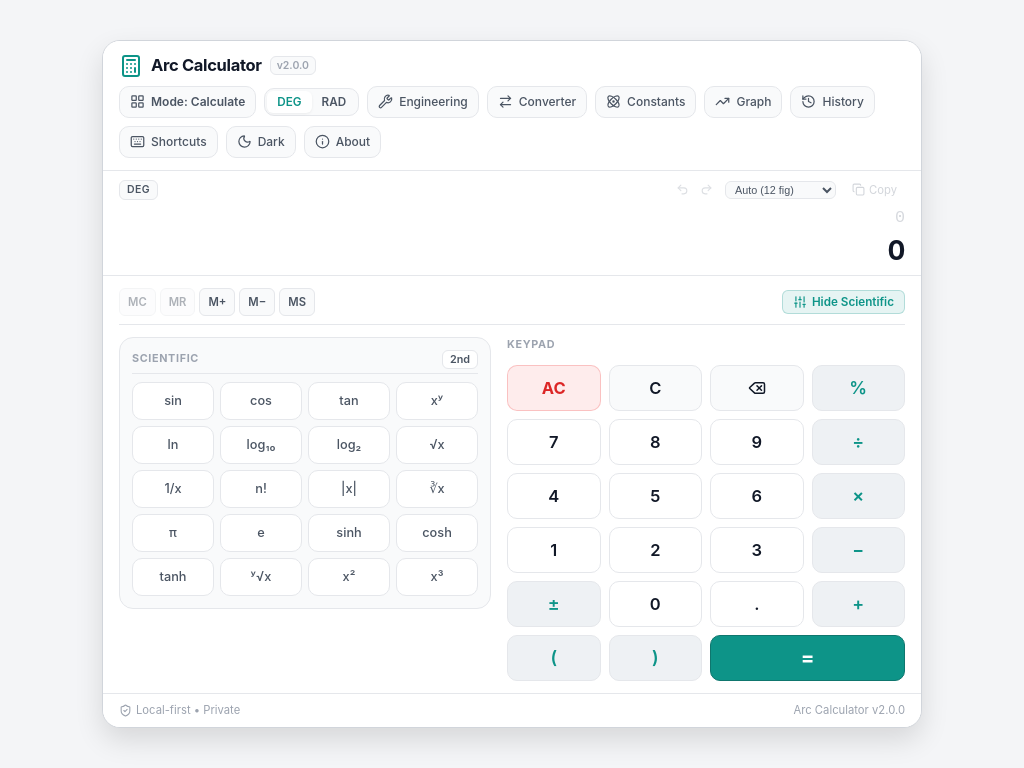
Test: Arc Calculator UI & Accessibility › opens and closes keyboard shortcuts dialog
The width and height of the screenshot is (1024, 768).
Click the button with aria-label "Keyboard shortcuts" at [168, 142], box 119,126 -> 218,158
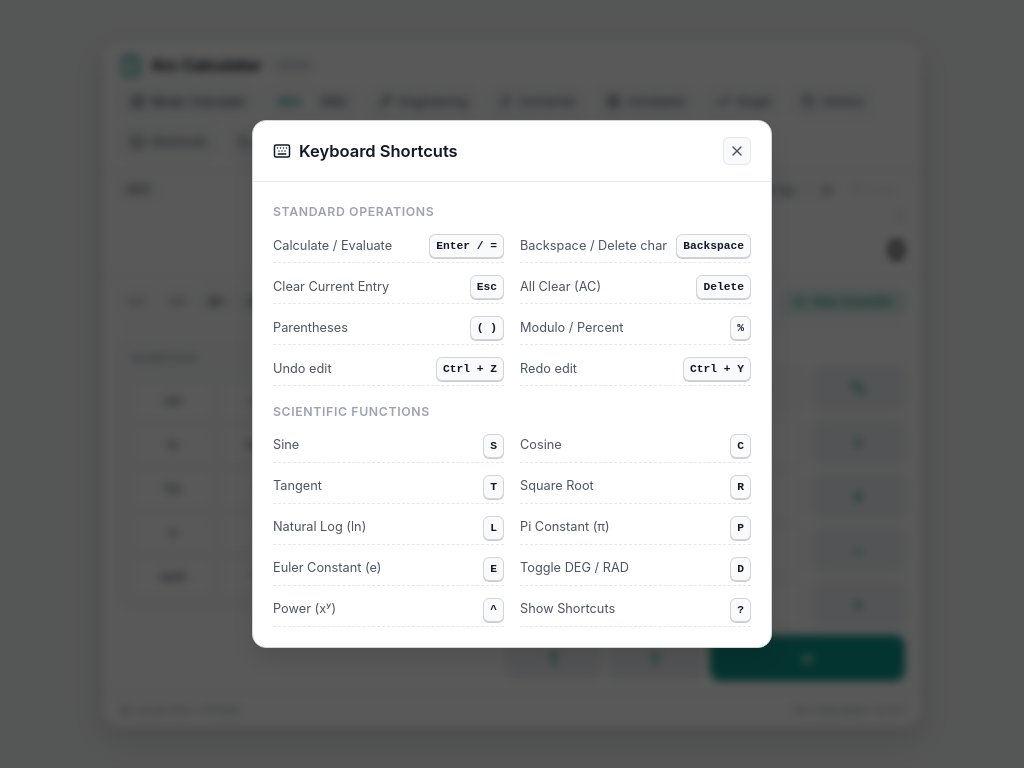
Result: the dialog "Keyboard Shortcuts" is shown
Click the button named "Close shortcuts" at [737, 151], box 723,137 -> 751,165
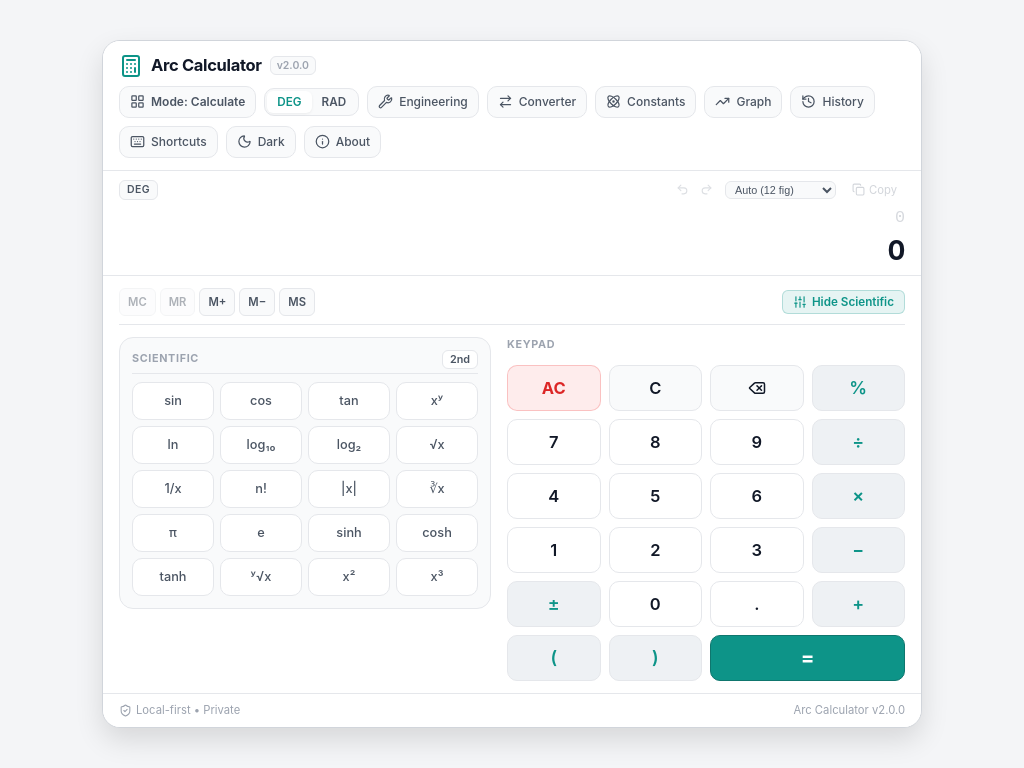
Result: the text "Keyboard Shortcuts" is gone
